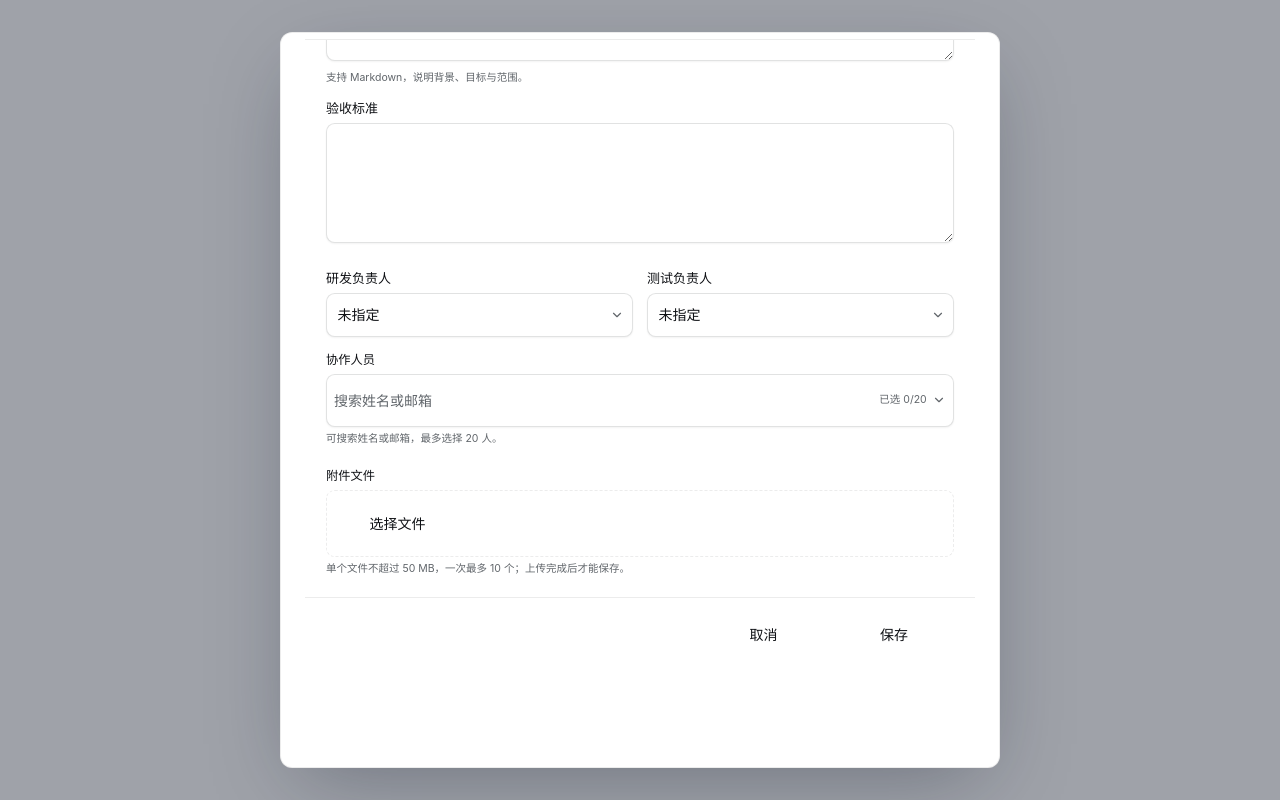
Test: RequirementForm › 协作人员复用成员多选：候选带角色，选中后以标签展示
(page scrolled)
Click the field labelled "搜索姓名或邮箱" at [604, 400], box x1=334 y1=378 x2=874 y2=422
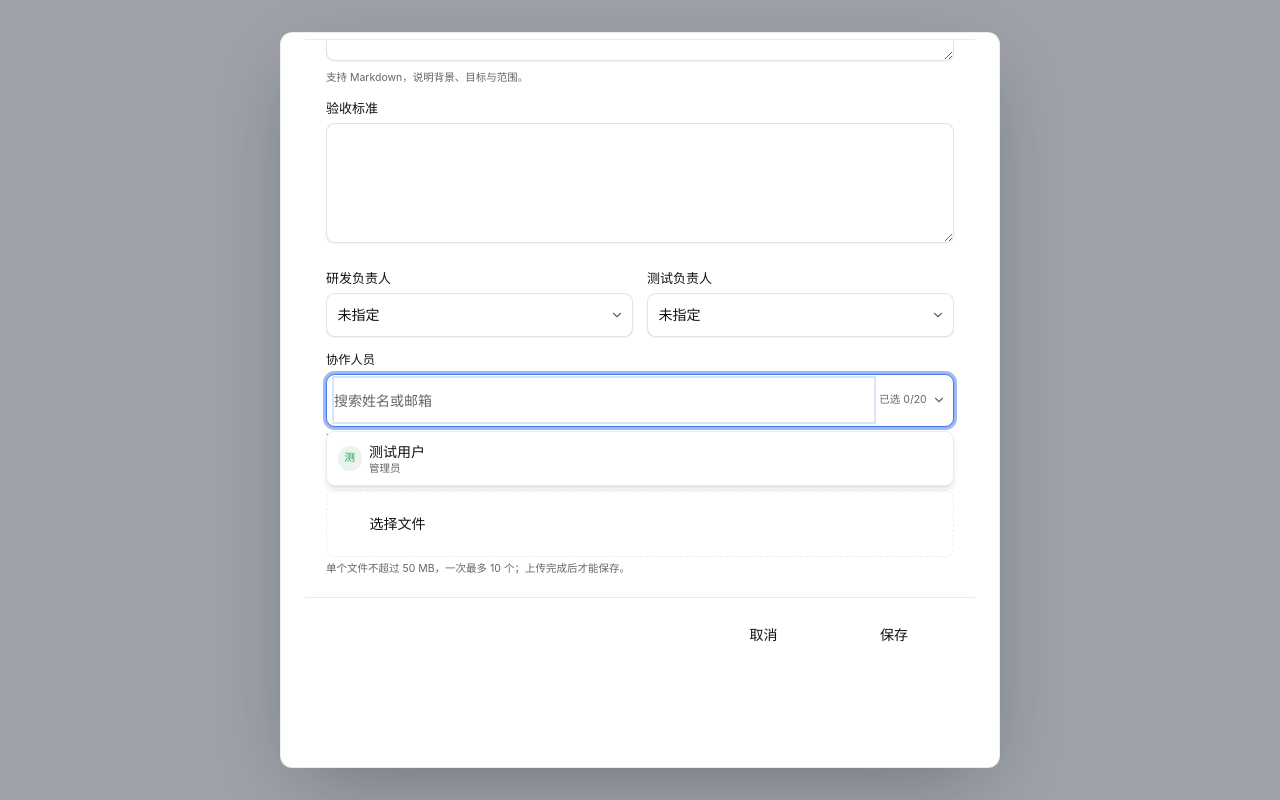
Expected: the option "测 测试用户 管理员" is shown
Click the option "测 测试用户 管理员" at [397, 451], box x1=330 y1=436 x2=950 y2=481
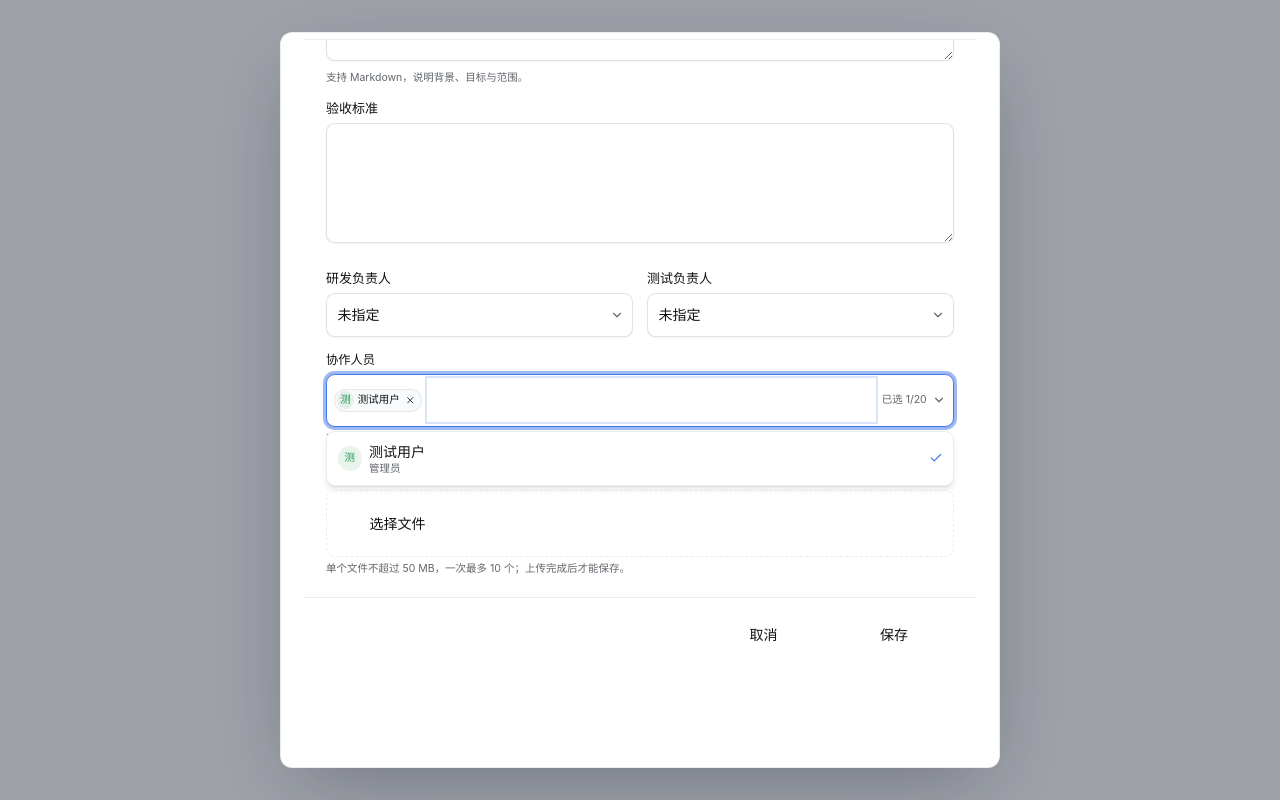
Expected: the text "可搜索姓名或邮箱，最多选择 20 人。已选 1 人。" is shown, x1=326 y1=432 x2=555 y2=445
Expected: the button named "移除 测试用户" is shown, x1=403 y1=393 x2=417 y2=407
